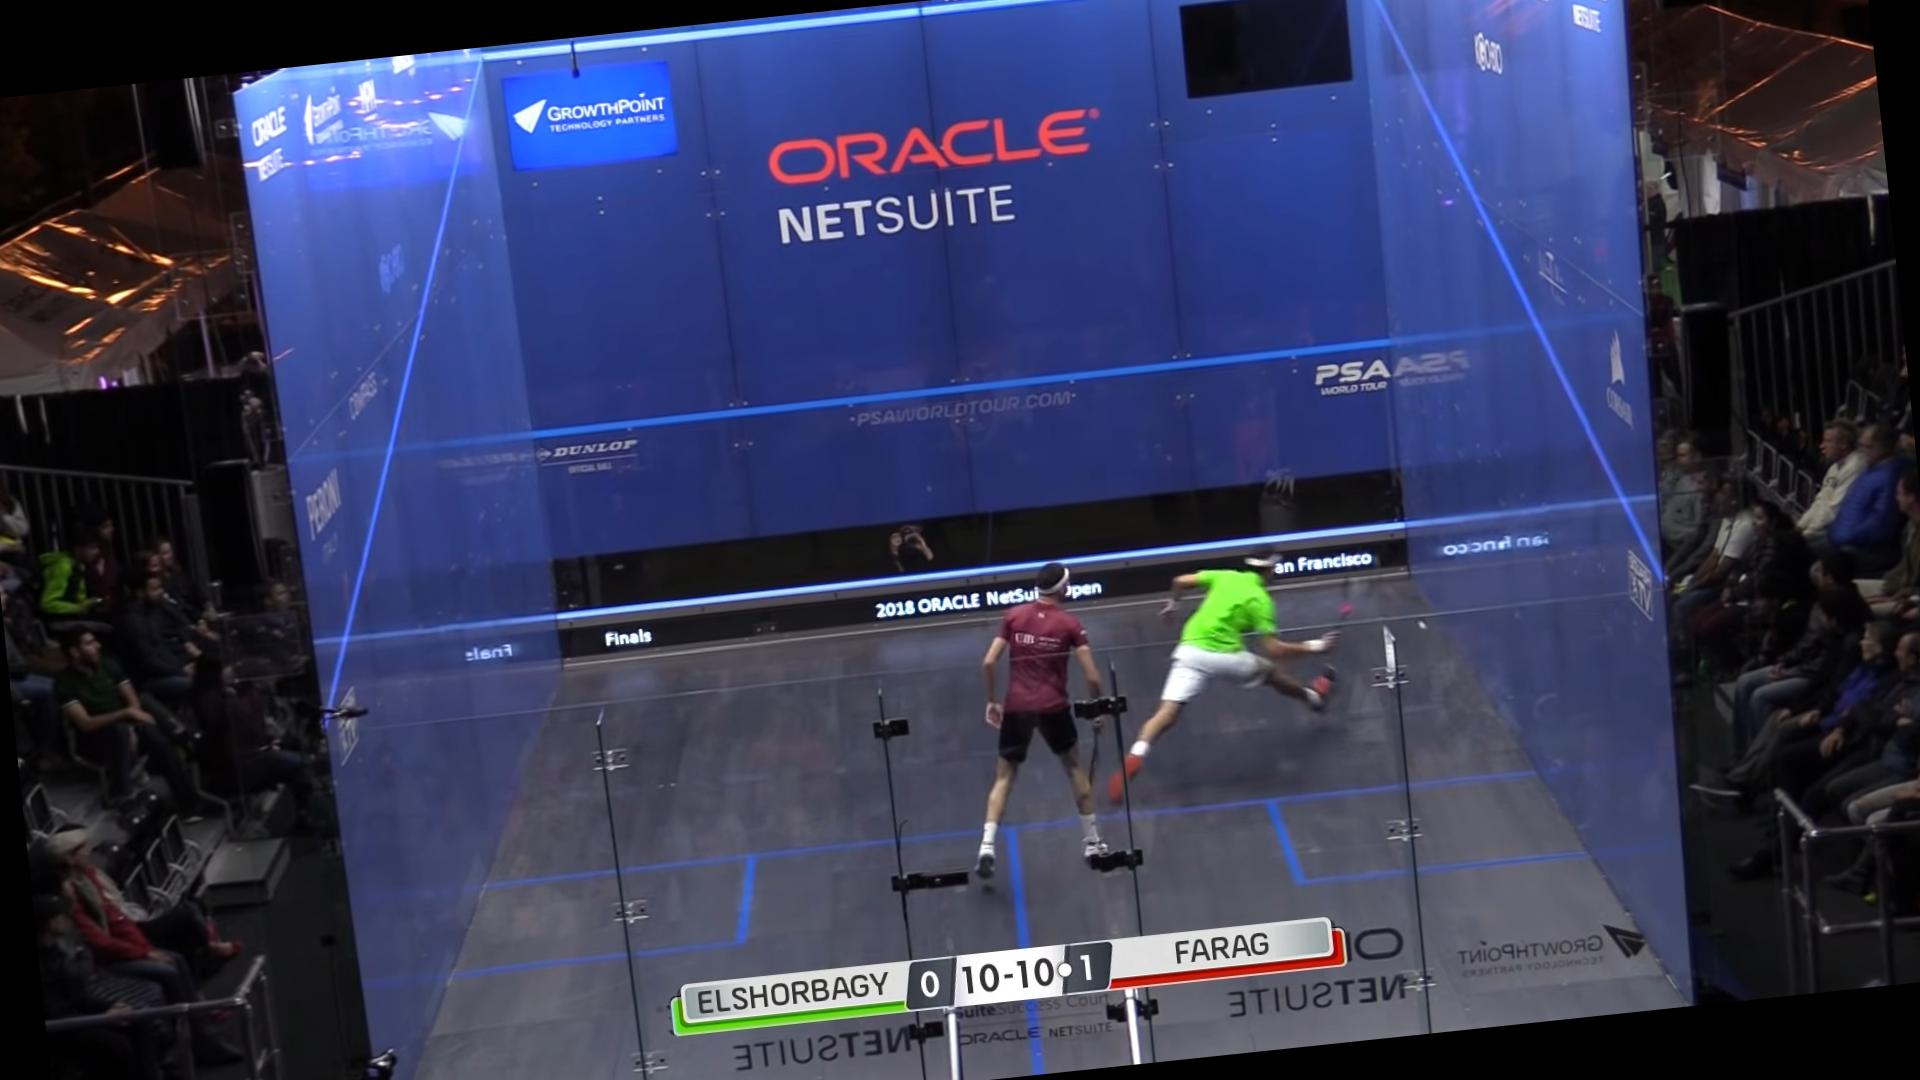Squash-Ball: (1402, 611, 1435, 641)
